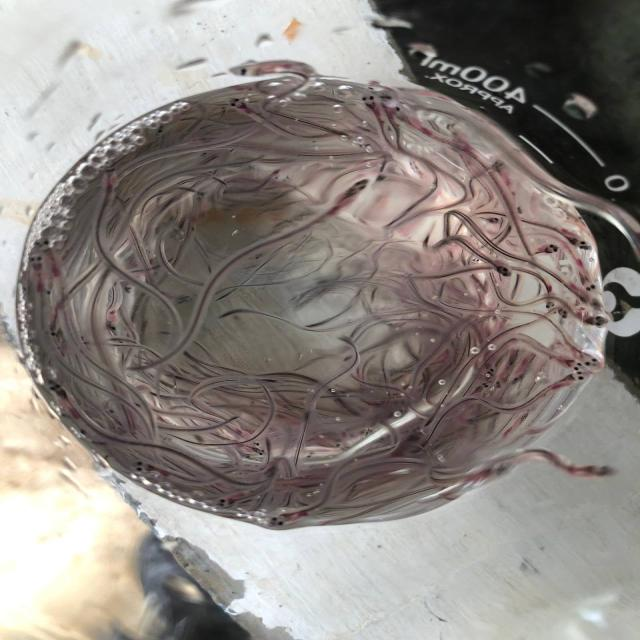glass_eel: (568, 459, 620, 483), (344, 172, 374, 204), (374, 86, 398, 118), (227, 60, 258, 81), (352, 90, 380, 113), (578, 352, 608, 373), (210, 492, 243, 511), (24, 250, 48, 276), (476, 463, 512, 480), (267, 512, 304, 528), (124, 456, 154, 475), (99, 162, 119, 190), (562, 355, 587, 376), (580, 315, 612, 331), (226, 92, 252, 111), (34, 233, 54, 257), (564, 370, 588, 388), (568, 235, 594, 251), (42, 378, 65, 394), (580, 279, 604, 294), (102, 319, 124, 335), (154, 120, 172, 139), (493, 263, 513, 280), (540, 242, 562, 256), (47, 324, 64, 341), (473, 379, 492, 393), (583, 298, 602, 312), (483, 363, 499, 378), (558, 306, 573, 322), (490, 157, 506, 172), (542, 298, 560, 311), (121, 282, 135, 294), (358, 426, 374, 436), (252, 448, 269, 457), (248, 438, 262, 448), (301, 453, 319, 460), (469, 256, 480, 265), (330, 441, 341, 448)
